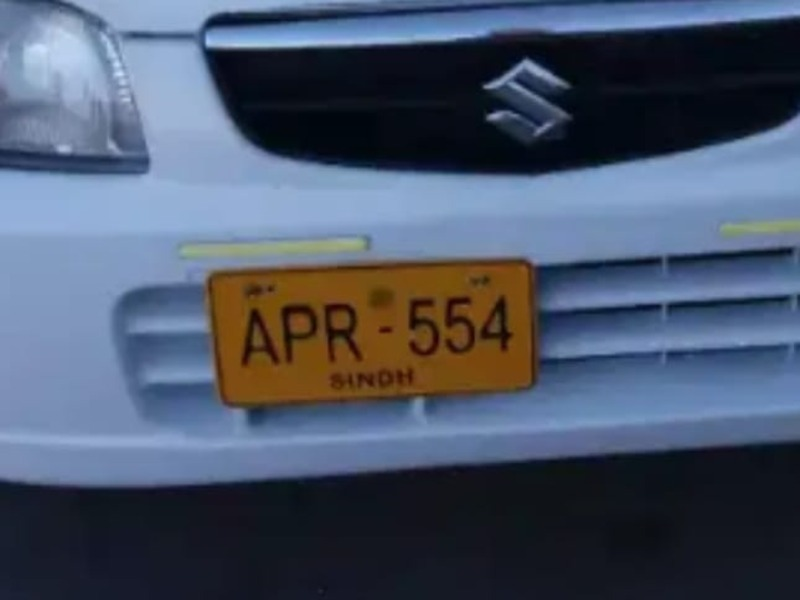License Plate: (208, 263, 541, 418)
